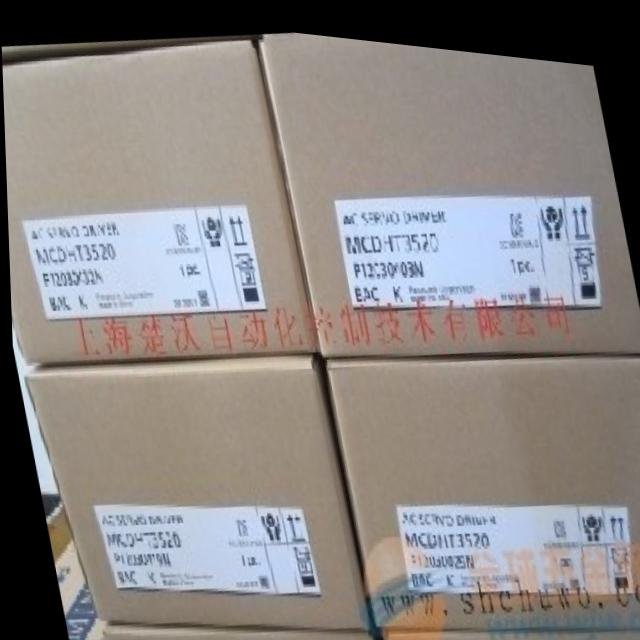box: (259, 29, 640, 352), (2, 34, 316, 364), (23, 347, 368, 622), (321, 340, 640, 620), (378, 612, 640, 640), (98, 621, 373, 640)
